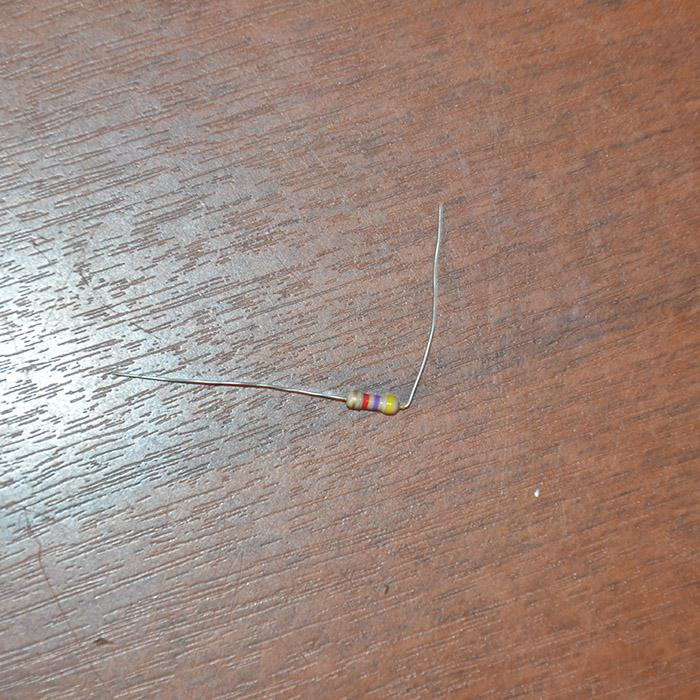resistor: (346, 388, 399, 414)
